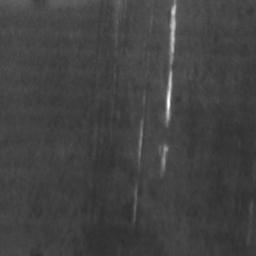Bright scratch: (166, 5, 178, 125), (157, 143, 169, 175), (138, 120, 145, 156)
